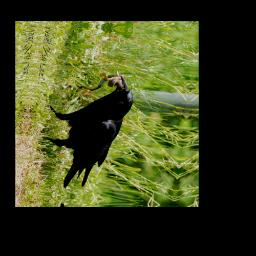Crow: (37, 68, 137, 193)
